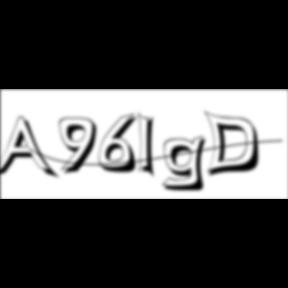6: (98, 112, 144, 176)
9: (58, 117, 104, 177)
A: (0, 116, 60, 182)
D: (204, 110, 266, 180)
I: (138, 110, 162, 182)
g: (162, 134, 214, 194)
